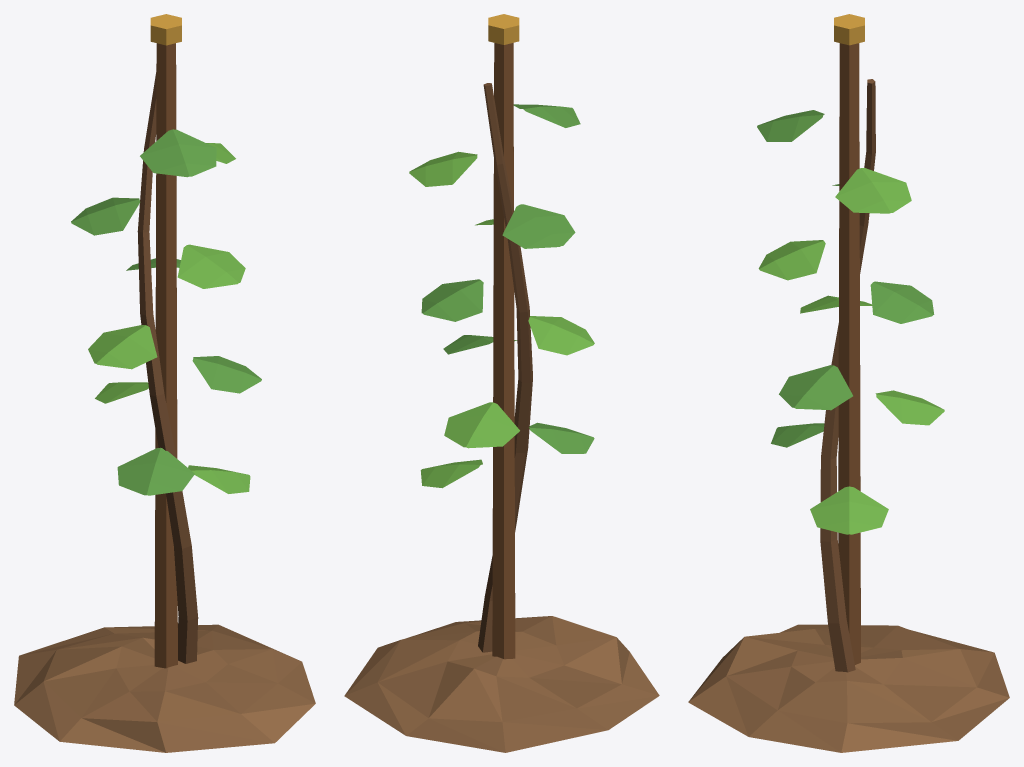
The model's file is ZB_agac_uzum_a3.glb.
The picture shows the model from 3 angles, left to right: view 1: azimuth 30°, elevation 25°; view 2: azimuth 150°, elevation 25°; view 3: azimuth 270°, elevation 25°; orthographic projection.
Parts seen in each view (by area): view 1: ZB_agac_uzum_a3; view 2: ZB_agac_uzum_a3; view 3: ZB_agac_uzum_a3.
Boxes of the visible parts, x1=… form: ZB_agac_uzum_a3: x1=14, y1=14, x2=315, y2=752; ZB_agac_uzum_a3: x1=344, y1=14, x2=659, y2=752; ZB_agac_uzum_a3: x1=688, y1=14, x2=1009, y2=752.
Bounding box in the file's own units: 0.6772 × 1.64 × 0.7169.
